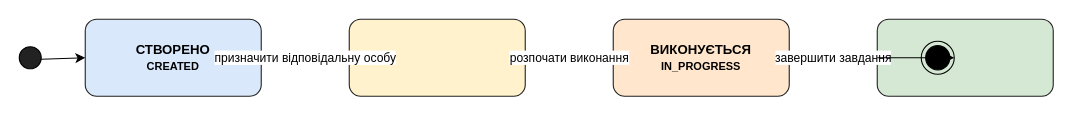
Image size: 1073x116. Some labels were removed from this diagram. Each missing label, with the box of its shape:
ВИКОНАНО DONE: (876, 18, 1053, 96)
ПРИЗНАЧЕНО ASSIGNED: (348, 18, 525, 96)
